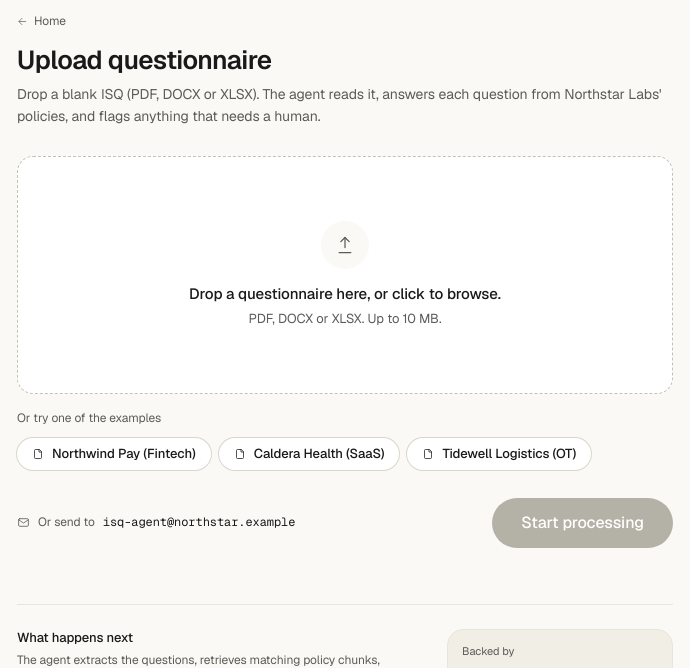
UploadPage — example shortcuts › selects the example, shows its filename, hides the examples, and enables the CTA
Click the button "Northwind Pay (Fintech)" at (114, 454), box [17, 438, 211, 470]
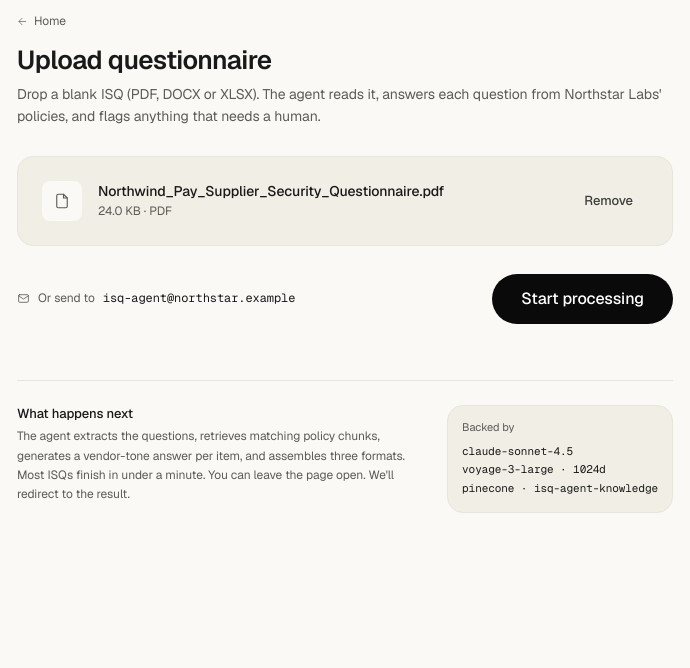
Result: the text "Northwind_Pay_Supplier_Security_Questionnaire.pdf" is shown at [98, 182, 444, 200]
Result: the button "Caldera Health" is gone
Result: the button "Start processing" is enabled at [492, 274, 673, 324]
